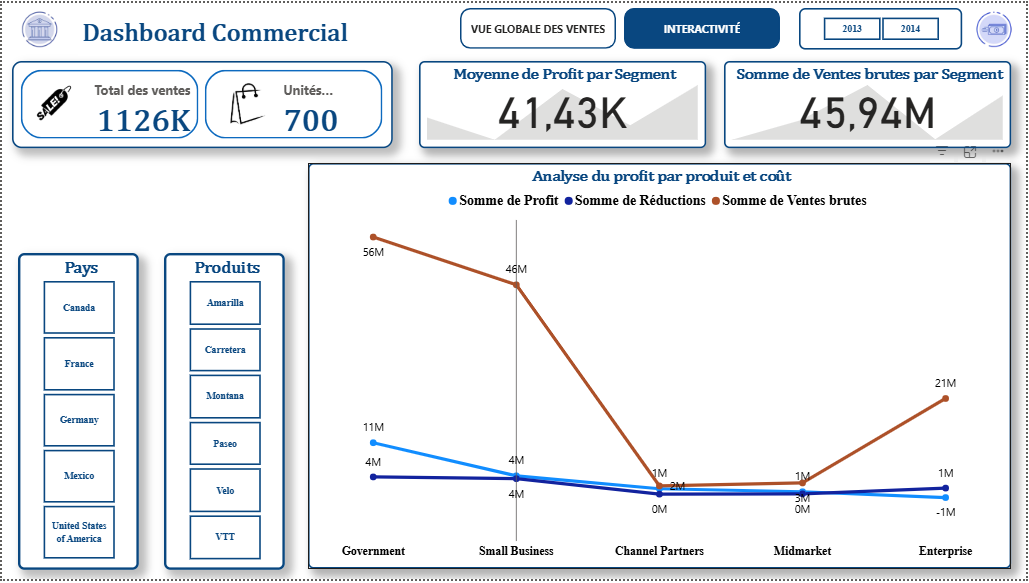

Layout of this report page (visuals, bound fields, positions):
{"tool":"powerbi","page":{"name":"INTERACTIVITÉ","canvas":[1280,720],"ordinal":1},"visuals":[{"type":"image","box":[0,0,94.3,65.7],"z":0},{"type":"image","box":[1200.2,0,79.8,66.1],"z":1000},{"type":"cardVisual","fields":{"Data":["_Mesure.Total des ventes","_Mesure.Unités vendues"]},"box":[12.9,72.9,475.7,108.6],"z":2000},{"type":"kpi","fields":{"TrendLine":["financials.Segment"],"Indicator":["Avg(financials.Profit)"]},"box":[521.4,72.9,358.6,108.6],"z":3000},{"type":"lineChart","title":"Analyse du profit par produit et coût","fields":{"Category":["financials.Segment"],"Y":["Sum(financials.Profit)","Sum(financials.Réductions)","Sum(financials.Ventes brutes)"]},"box":[382.9,200,878.6,507.1],"z":4000},{"type":"slicer","fields":{"Values":["financials.Année"]},"box":[995.8,6.8,203.8,51.6],"z":5000},{"type":"pageNavigator","box":[571.9,6.8,400.8,51.6],"z":6000},{"type":"textbox","box":[95,15.1,393.6,50.9],"z":7000},{"type":"kpi","fields":{"TrendLine":["financials.Segment"],"Indicator":["Sum(financials.Ventes brutes)"]},"box":[902.9,72.9,358.6,108.6],"z":8000},{"type":"slicer","title":"Pays","fields":{"Values":["financials.Pays"]},"box":[19.4,311.9,150.7,395.5],"z":9000},{"type":"slicer","title":"Produits","fields":{"Values":["financials.Produit"]},"box":[203,311.9,150.7,395.5],"z":10000}]}

Visuals, with their boxes in screenshot pixels (x1, y1, x2, y2), scaled from the page's 1280x720 canvas onto the 1029x583 screenshot:
image: bbox=(0, 0, 76, 53)
image: bbox=(965, 0, 1028, 54)
cardVisual - _Mesure.Total des ventes x _Mesure.Unités vendues: bbox=(10, 59, 393, 147)
kpi - financials.Segment x Avg(financials.Profit): bbox=(419, 59, 707, 147)
"Analyse du profit par produit et coût" lineChart: bbox=(308, 162, 1014, 573)
slicer - financials.Année: bbox=(801, 6, 964, 47)
pageNavigator: bbox=(460, 6, 782, 47)
textbox: bbox=(76, 12, 393, 53)
kpi - financials.Segment x Sum(financials.Ventes brutes): bbox=(726, 59, 1014, 147)
"Pays" slicer: bbox=(16, 253, 137, 573)
"Produits" slicer: bbox=(163, 253, 284, 573)
